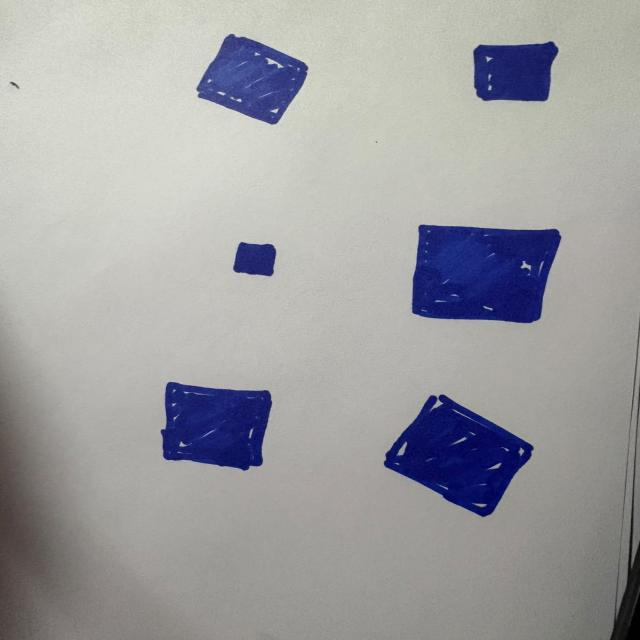Square: (384, 395, 533, 516), (412, 225, 561, 323), (197, 34, 307, 124), (161, 382, 271, 470), (474, 42, 558, 101), (233, 242, 277, 276)
